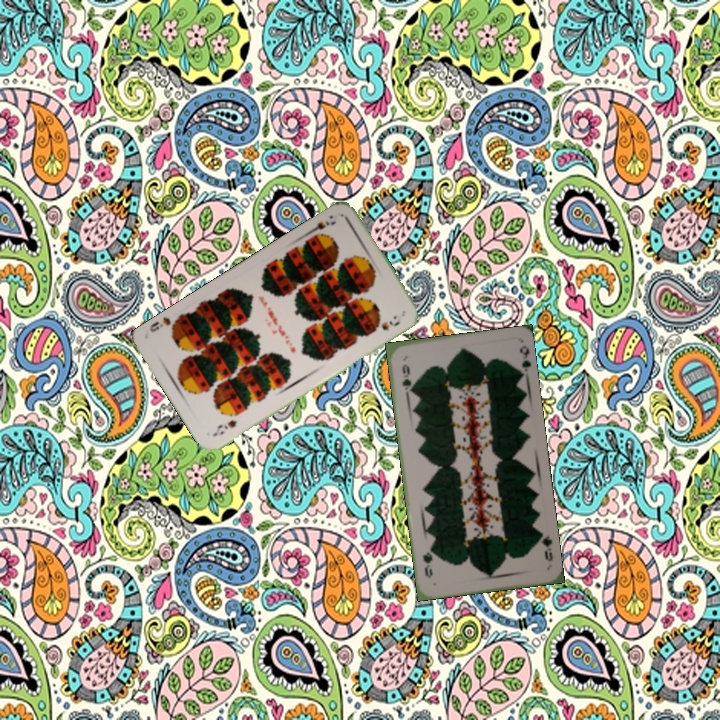G9: (535, 528, 555, 564), (398, 360, 414, 396)
S9: (304, 216, 339, 240), (209, 416, 239, 439)
